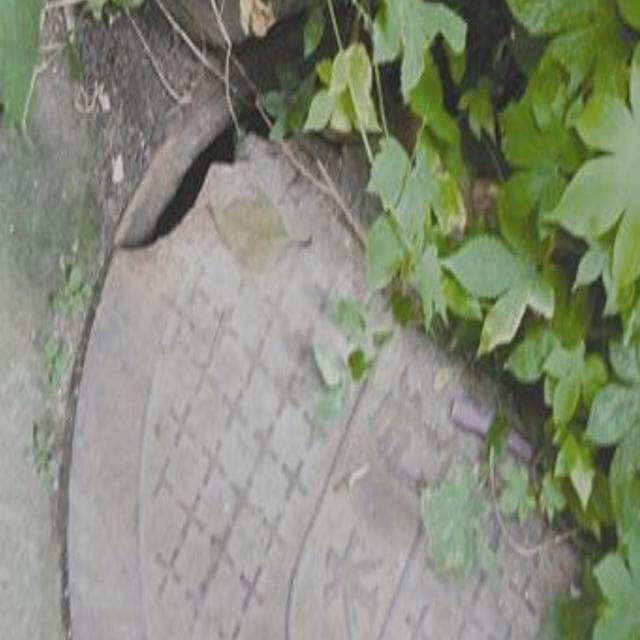broke: (11, 39, 640, 640)
